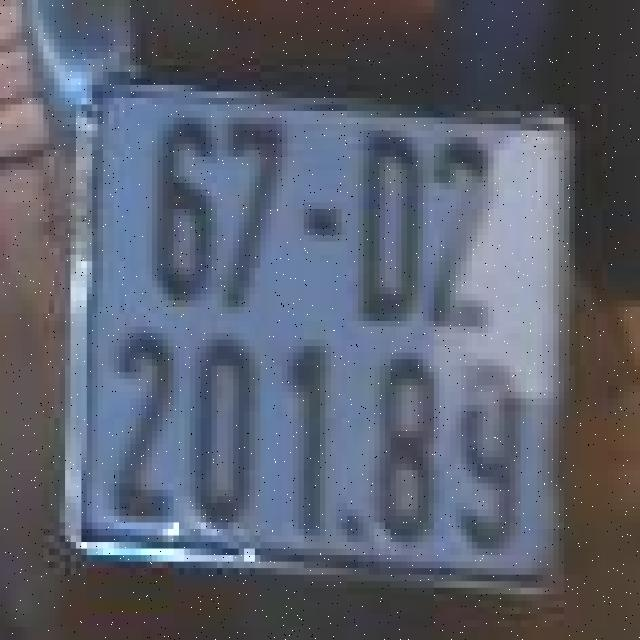0: (179, 324, 271, 546)
1: (288, 323, 336, 552)
2: (92, 316, 174, 526), (437, 101, 496, 336)
6: (130, 88, 217, 310)
7: (225, 104, 290, 314)
8: (368, 343, 456, 578)
9: (458, 343, 540, 578)
D: (344, 104, 426, 340)
